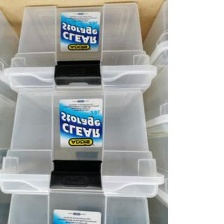plastic_box: (0, 85, 168, 200), (0, 0, 161, 100), (2, 186, 155, 224)
